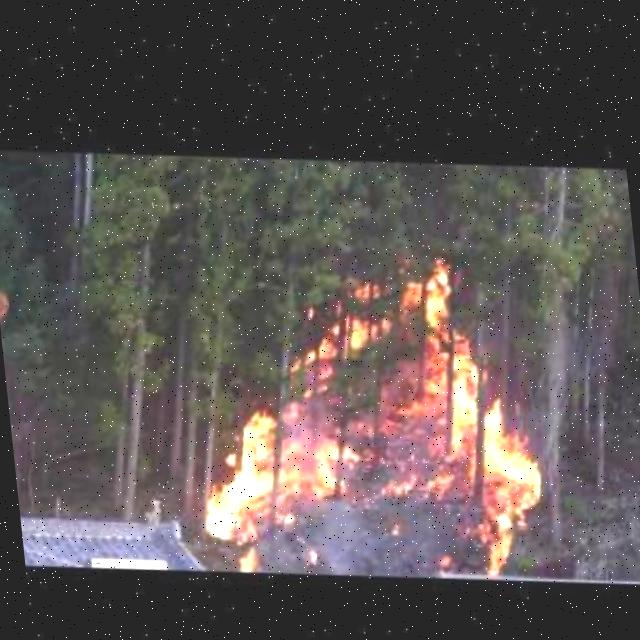fire: (377, 239, 587, 586), (193, 380, 387, 560), (277, 243, 438, 409), (382, 466, 423, 497), (238, 541, 266, 572)
